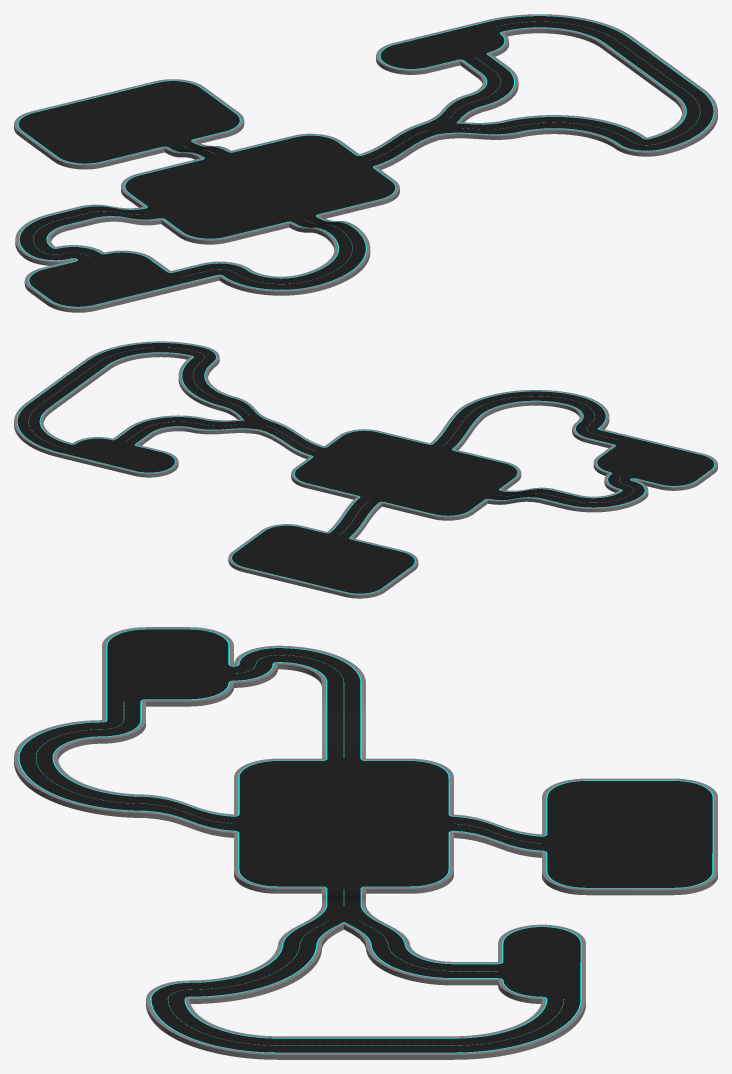
Rendered from Test Track 2x Wide No Barriers.fbx.
3 renders of one model, top to bottom at view 1: azimuth 30°, elevation 25°; view 2: azimuth 150°, elevation 25°; view 3: azimuth 270°, elevation 25°, orthographic. The views are drawn at different scales.
Visible parts, largest first — view 1: Straight Ahead.182; view 2: Straight Ahead.182; view 3: Straight Ahead.182.
Part boxes in pixels (bbox=[...]): Straight Ahead.182: bbox=[14, 14, 717, 312]; Straight Ahead.182: bbox=[14, 341, 717, 598]; Straight Ahead.182: bbox=[14, 627, 717, 1059].
Size of the model in its own units: 920 by 45 by 640.
